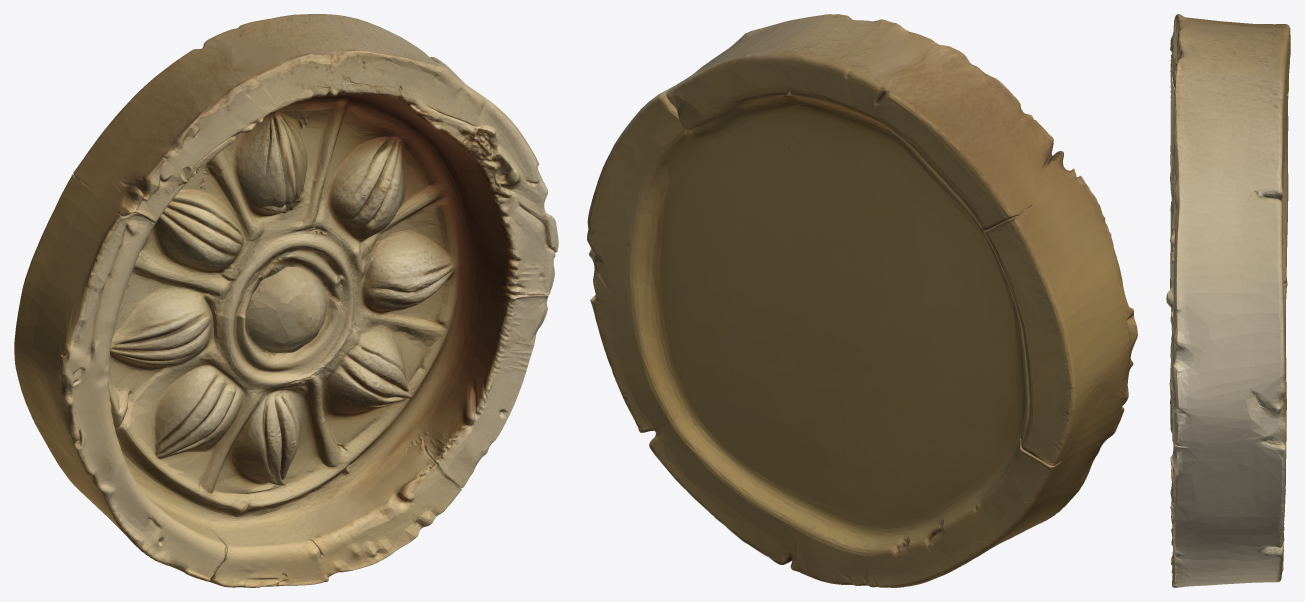
File: gaojuli.glb
3 views of the same model, side by side, from view 1: azimuth 30°, elevation 25°; view 2: azimuth 150°, elevation 25°; view 3: azimuth 270°, elevation 25° (orthographic).
Visible parts, largest first — view 1: node_1; view 2: node_1; view 3: node_1.
Part boxes in pixels (<box>): node_1: <box>14,14,558,587</box>; node_1: <box>587,14,1137,587</box>; node_1: <box>1166,14,1290,587</box>.
Size of the model in its own units: 1.16 by 1.18 by 0.253.
1 material, 1 textured.
